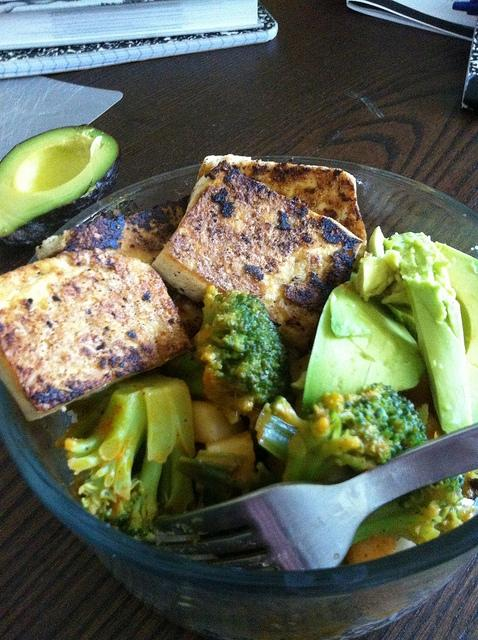avocado: (0, 124, 122, 275), (301, 280, 428, 419)
broccoli: (63, 377, 207, 542), (158, 284, 294, 424), (255, 382, 428, 482), (351, 473, 466, 545), (176, 450, 278, 507)
